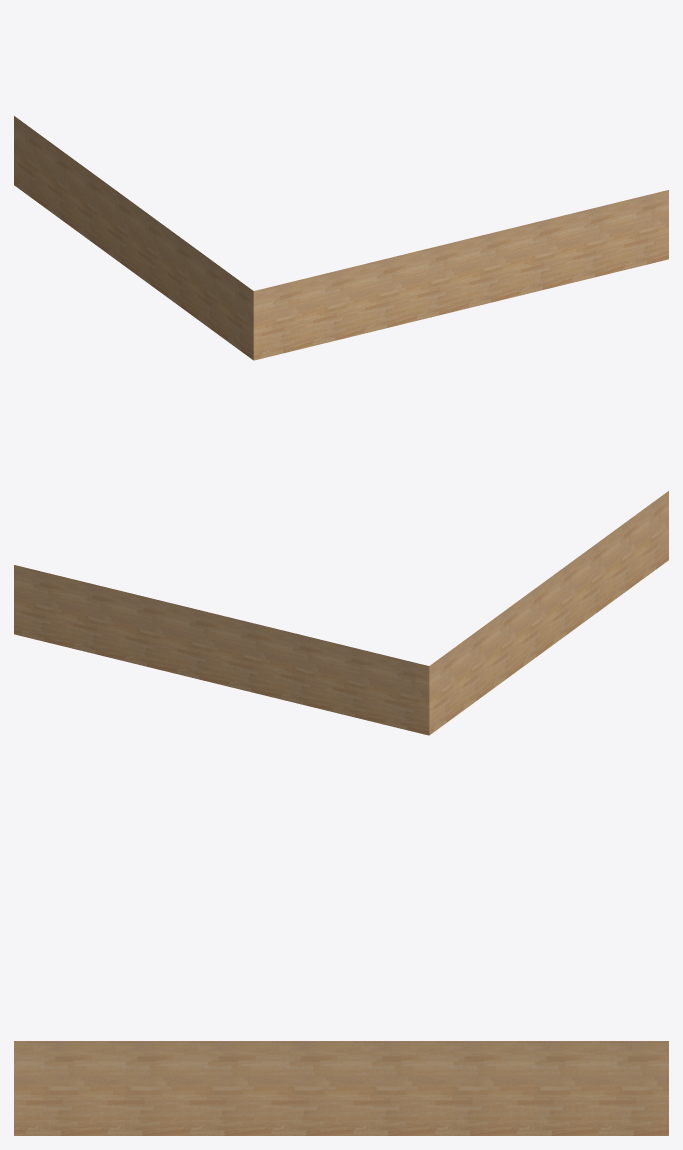
3 views of the same model, one above another, from view 1: azimuth 30°, elevation 25°; view 2: azimuth 150°, elevation 25°; view 3: azimuth 270°, elevation 25° (orthographic). The views are drawn at different scales.
Visible parts, largest first — view 1: Joint_0_Object_0; view 2: Joint_0_Object_0; view 3: Joint_0_Object_0.
Part boxes in pixels (box(x1,y1,x2,y2)): Joint_0_Object_0: box(14, 116, 668, 360); Joint_0_Object_0: box(14, 491, 668, 735); Joint_0_Object_0: box(14, 1041, 668, 1135).
Bounding box in the file's own units: 10000 × 1600 × 10000.
Materials: 1 (1 with a texture image).
